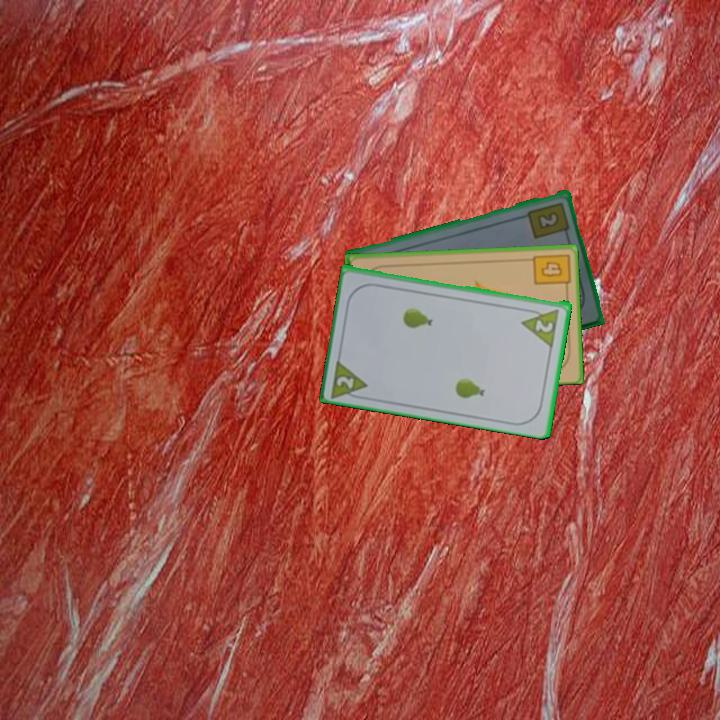2b: (524, 198, 572, 241)
2p: (328, 354, 371, 402), (532, 316, 556, 335)
4b: (529, 250, 572, 293)
